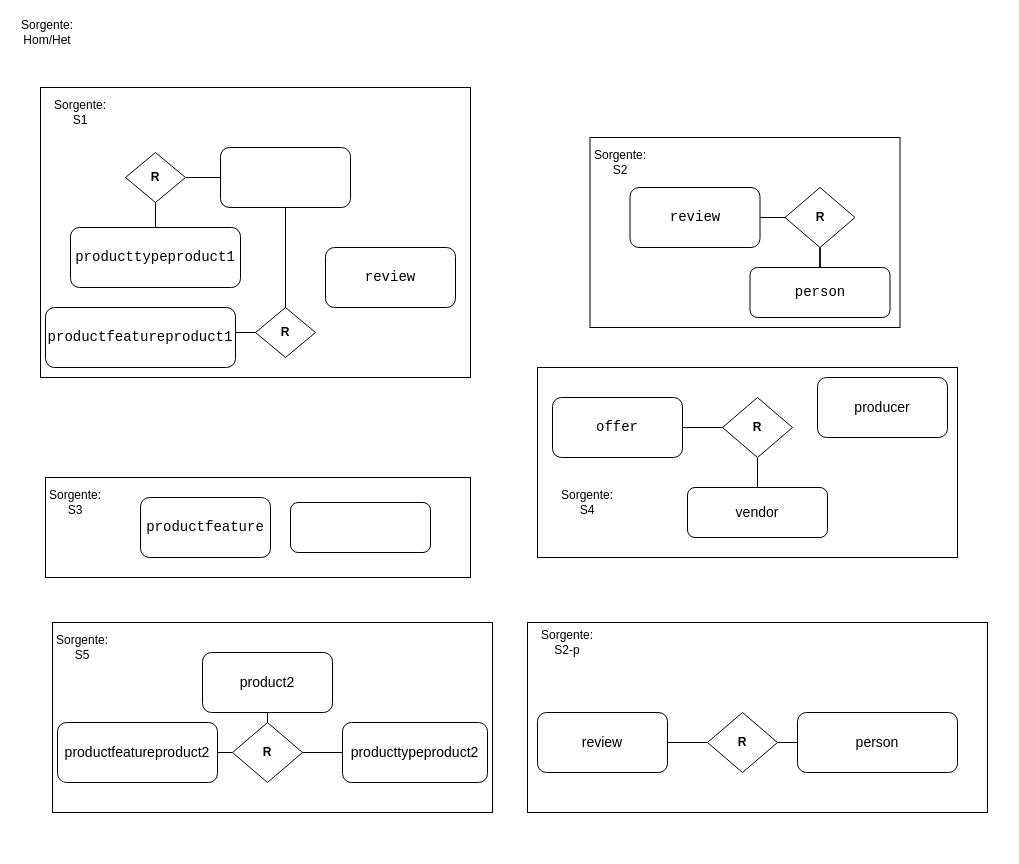
Image size: 1019x864. Some labels were removed from this diagram. Each missing label, with the box of its shape:
product1: (220, 146, 350, 208)
producttype: (290, 502, 430, 552)
